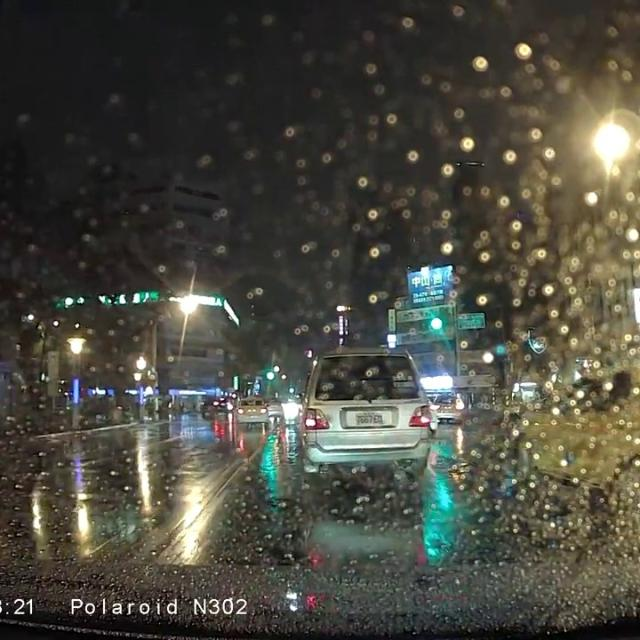Car: (500, 358, 639, 508), (295, 344, 433, 474), (429, 392, 466, 421), (232, 392, 266, 422), (263, 396, 281, 423), (210, 395, 232, 412)
